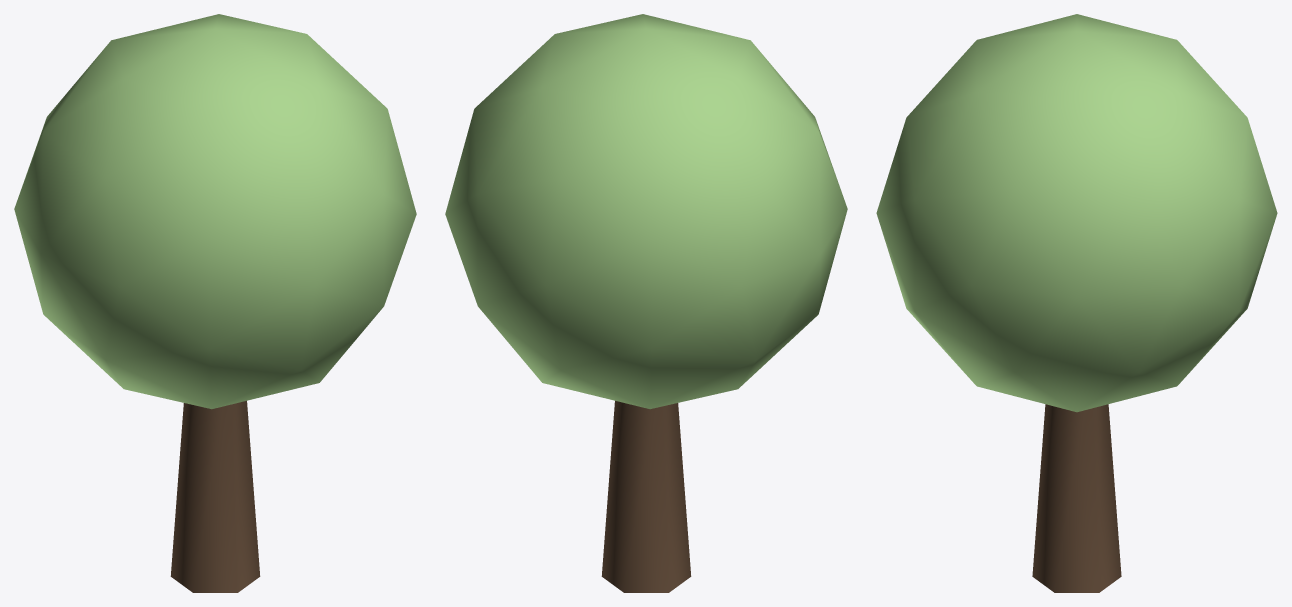
Rendered from small.glb.
The picture shows the model from 3 angles, left to right: view 1: azimuth 30°, elevation 25°; view 2: azimuth 150°, elevation 25°; view 3: azimuth 270°, elevation 25°; orthographic projection.
Visible parts, largest first — view 1: small_leafLight, small_trunk; view 2: small_leafLight, small_trunk; view 3: small_leafLight, small_trunk.
Boxes of the visible parts, left/top/right/bottom form: small_leafLight: left=14, top=14, right=416, bottom=409; small_trunk: left=170, top=401, right=260, bottom=592; small_leafLight: left=445, top=14, right=847, bottom=409; small_trunk: left=601, top=401, right=691, bottom=592; small_leafLight: left=876, top=14, right=1277, bottom=412; small_trunk: left=1032, top=404, right=1121, bottom=592.
Bounding box in the file's own units: 0.36 × 0.54 × 0.36.
